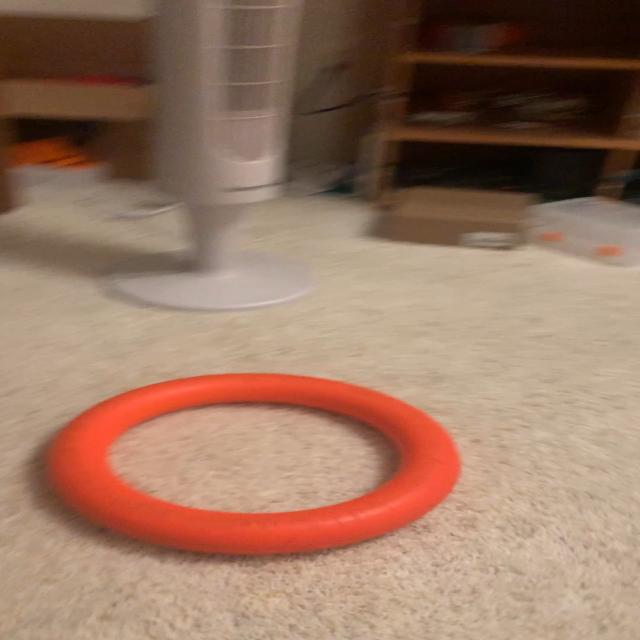notes: (45, 370, 462, 556)
